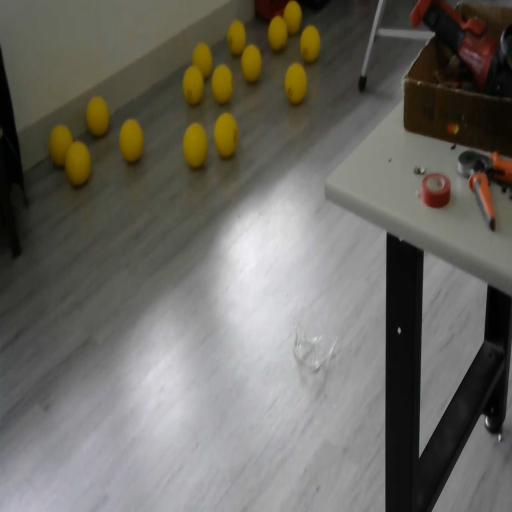FUEL: (64, 140, 92, 186), (118, 117, 145, 163), (182, 121, 208, 168), (213, 112, 239, 158), (85, 95, 110, 138), (284, 61, 308, 105), (210, 62, 234, 104), (192, 41, 214, 80), (240, 44, 262, 82), (300, 24, 322, 62), (226, 18, 247, 56), (267, 13, 288, 51), (282, 0, 303, 35)
